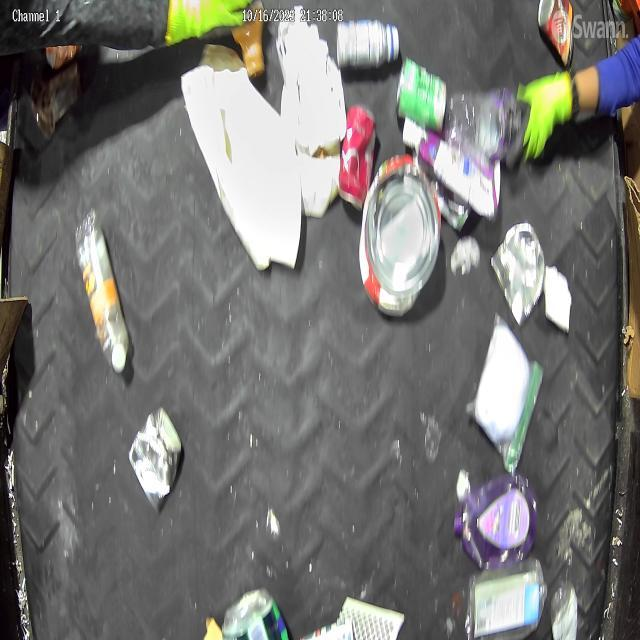can: (490, 218, 548, 328), (128, 406, 184, 514), (338, 102, 378, 214), (394, 54, 448, 134), (537, 0, 576, 72)
milk_jug: (180, 40, 304, 275)
plastic_bottle: (74, 208, 130, 374), (444, 82, 524, 166)
